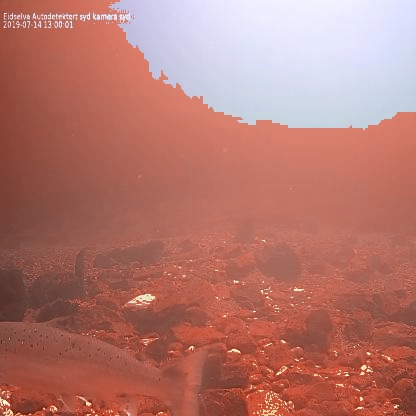salmon: (0, 312, 211, 416)
